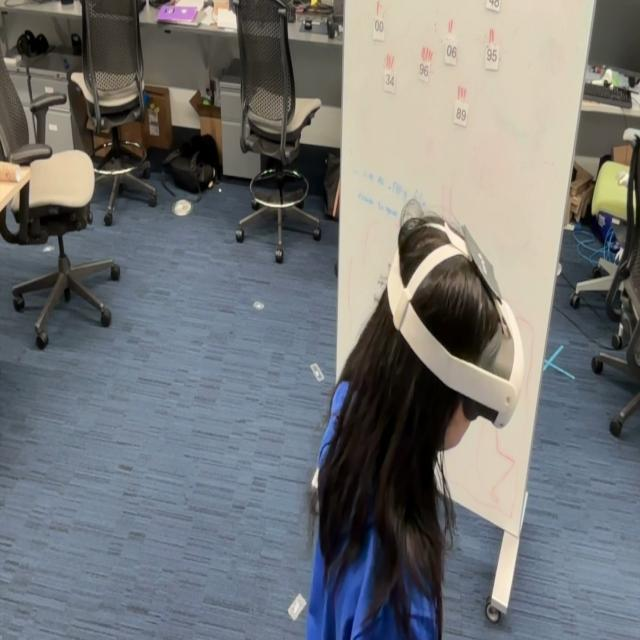Headset: (386, 203, 525, 430)
UnityLogo: (460, 220, 504, 304)
